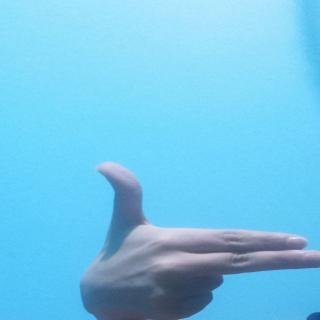GHAYN: (64, 153, 320, 320)
